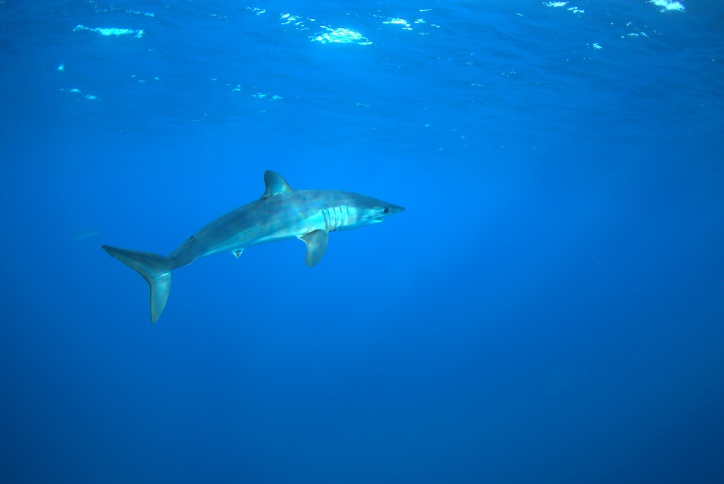Mako: (89, 163, 454, 330)
